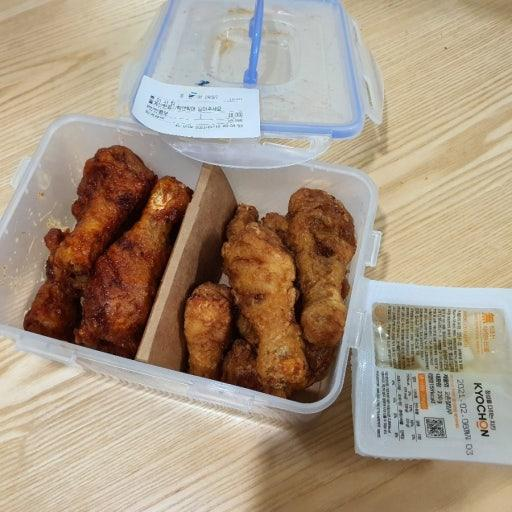Lunch Box: (0, 0, 382, 419), (353, 280, 511, 464)
